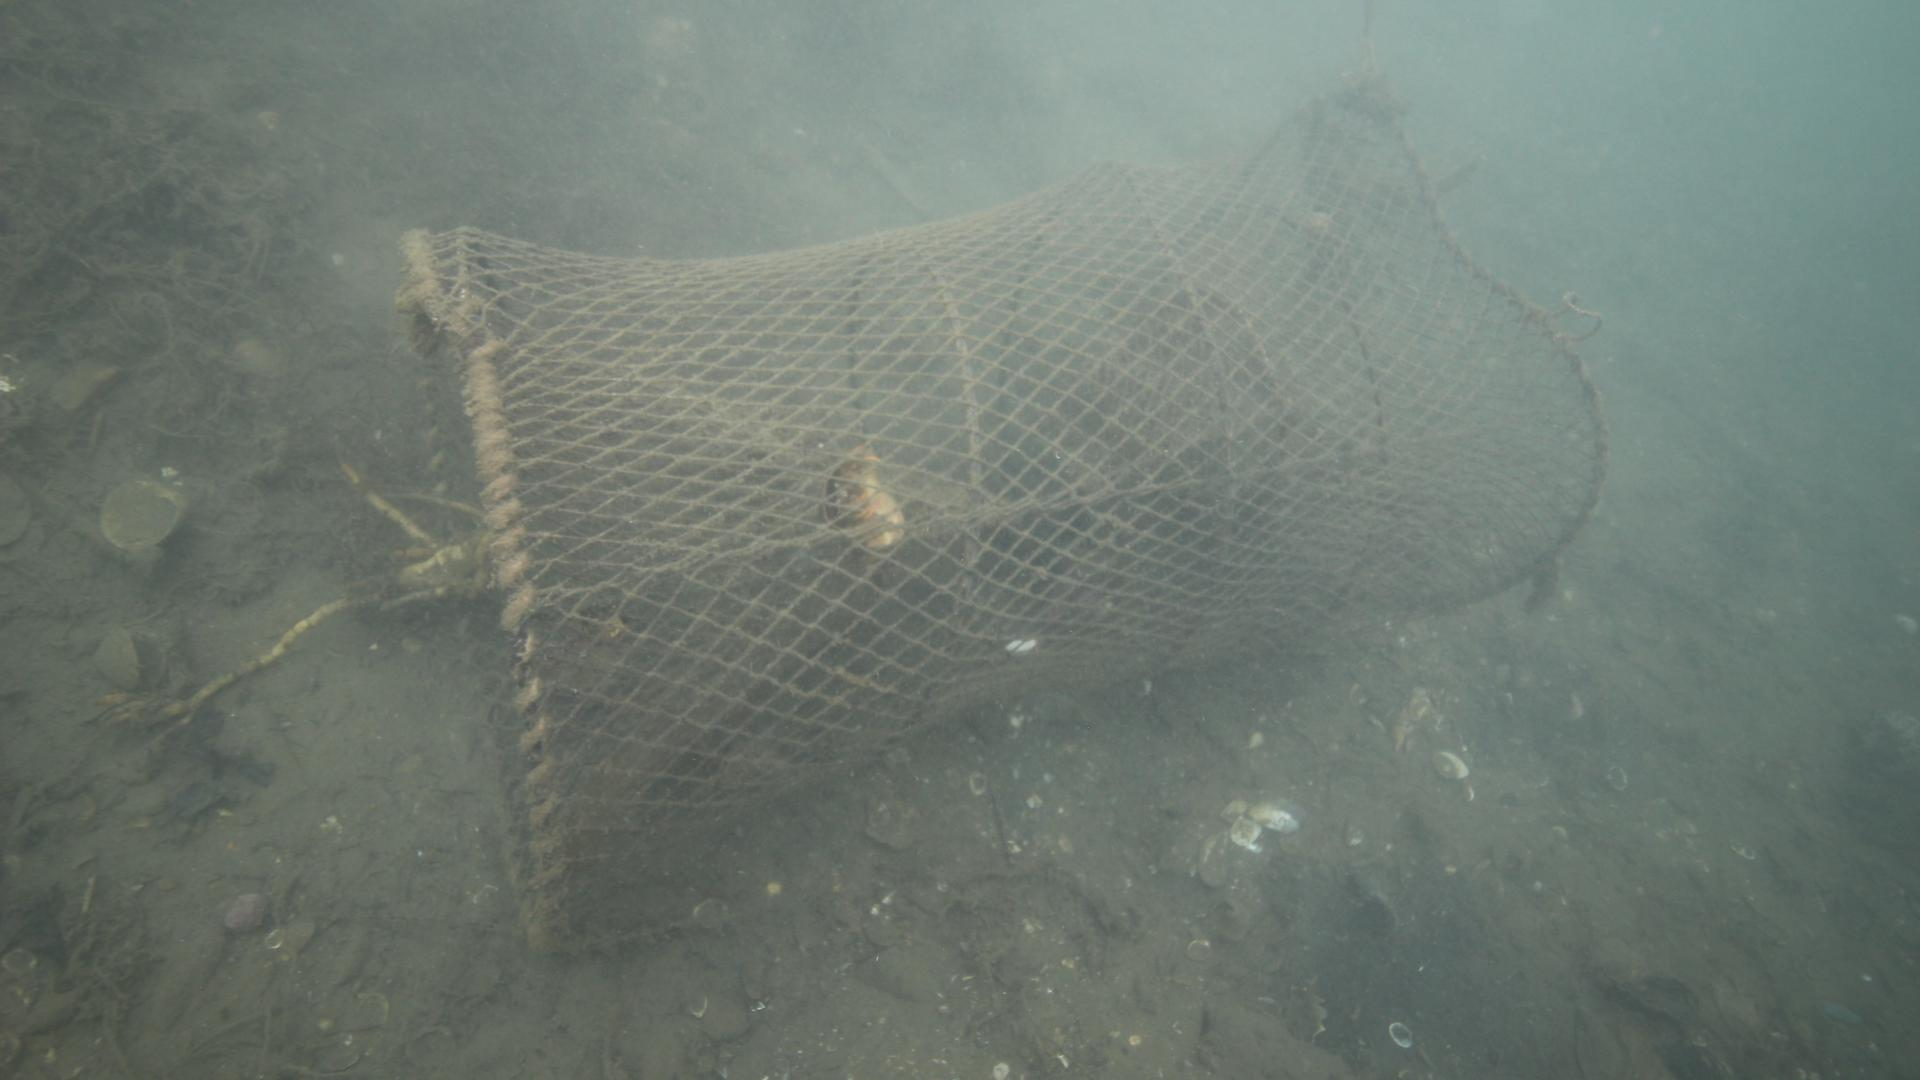spring fish trap: (417, 94, 1611, 953)
